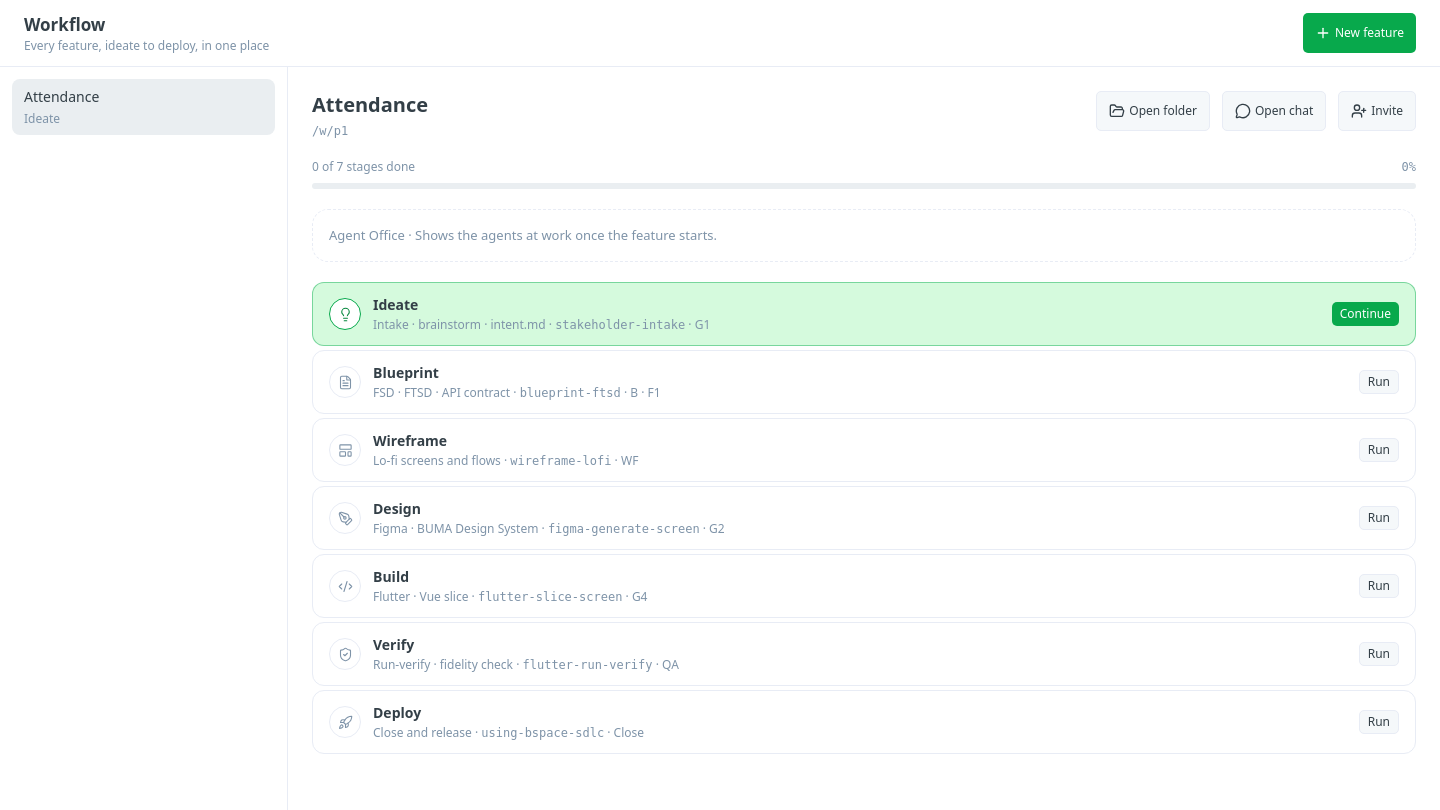
Scenario: Invite to a feature › the first invite picks the Azure DevOps project, then sends the email with the role
The image size is (1440, 810).
Click the button "Invite" at (1377, 110), box [1338,90,1416,130]
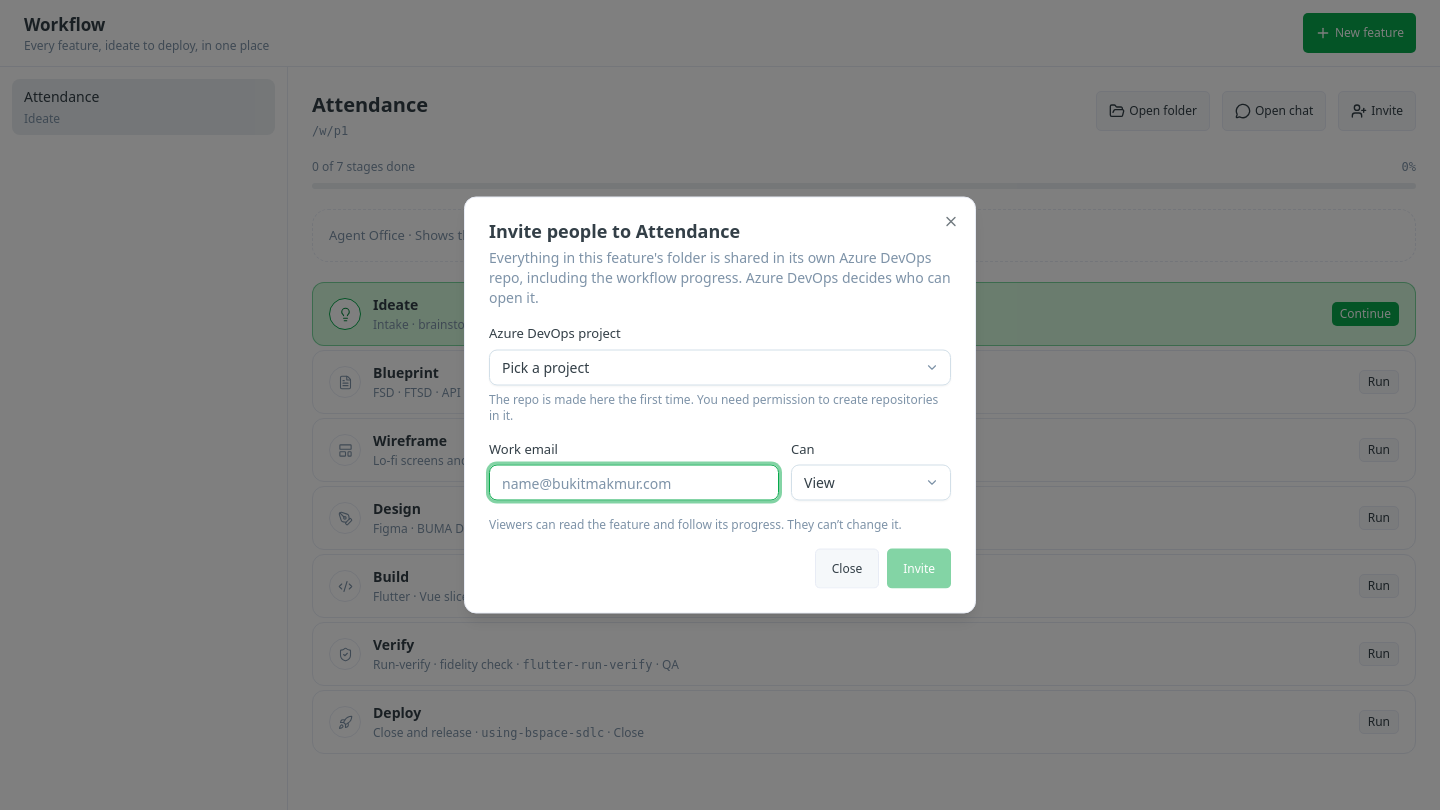
Type "Dewi@bukitmakmur.com" into the field at (634, 482), box [489,464,779,500]
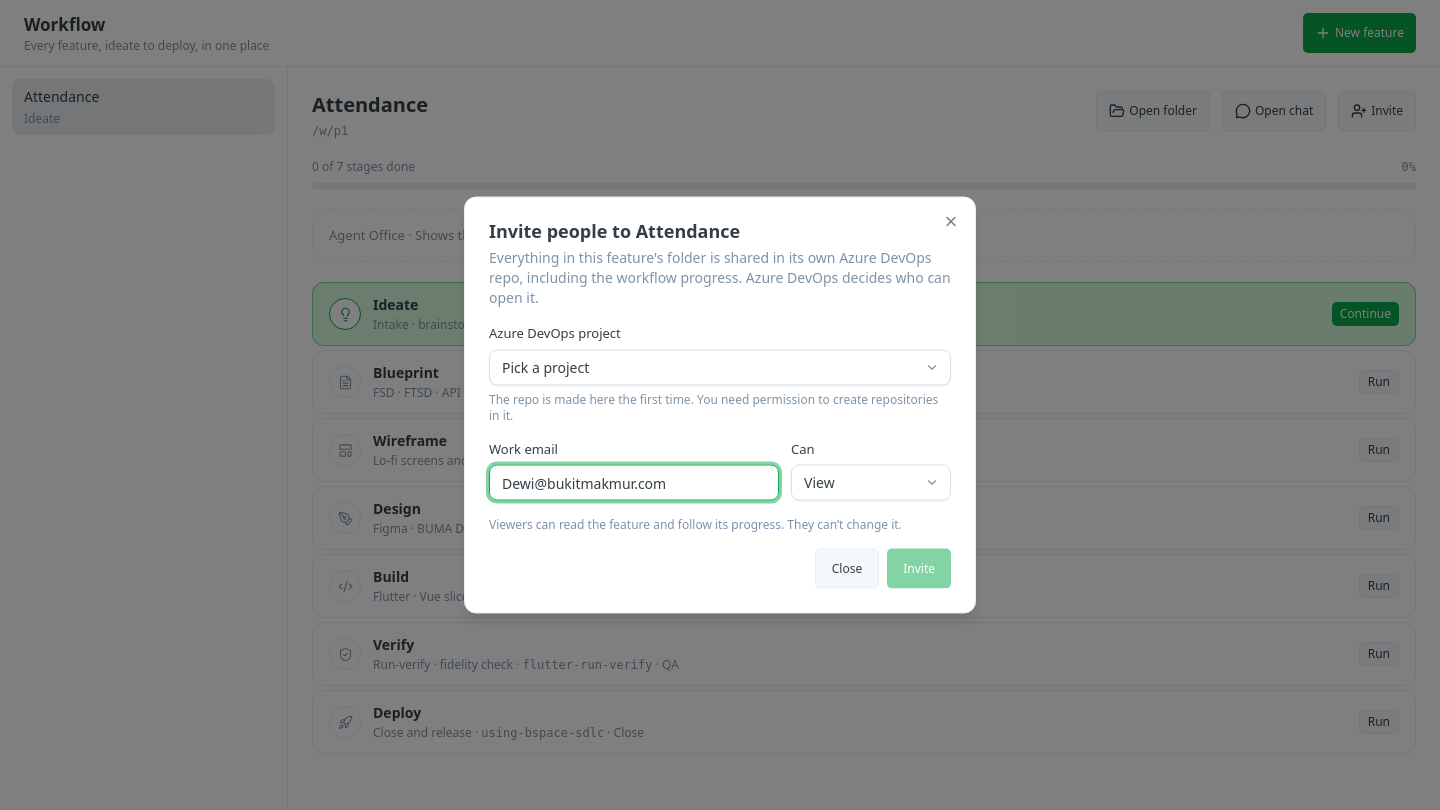
Now the button "Invite" is disabled, box [887,548,951,588]
Select "BUMA Bspace" in the dropdown labelled "Azure DevOps project" at (720, 367), box [489,349,951,385]
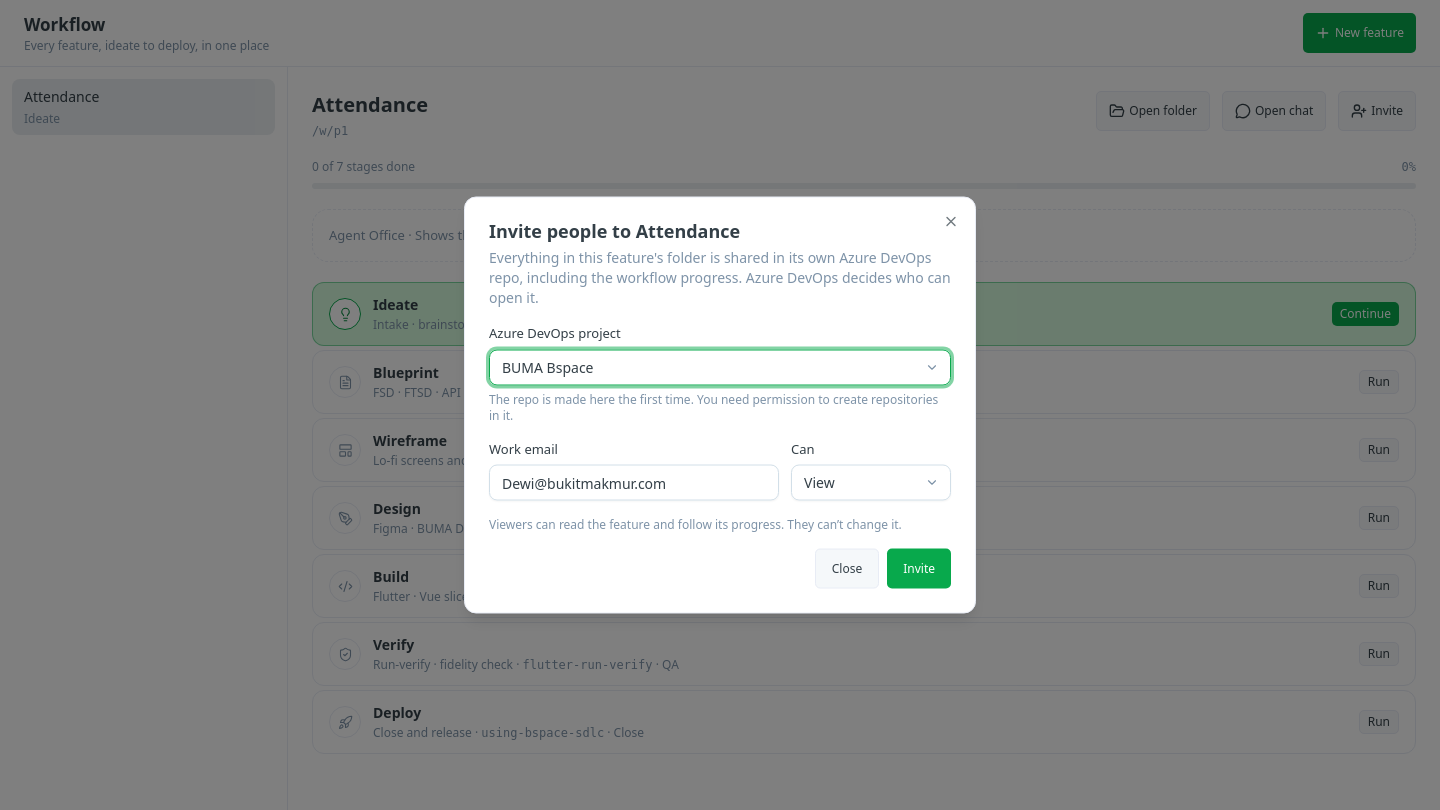
Select "Contribute" in the dropdown labelled "Can" at (871, 482), box [791,464,951,500]
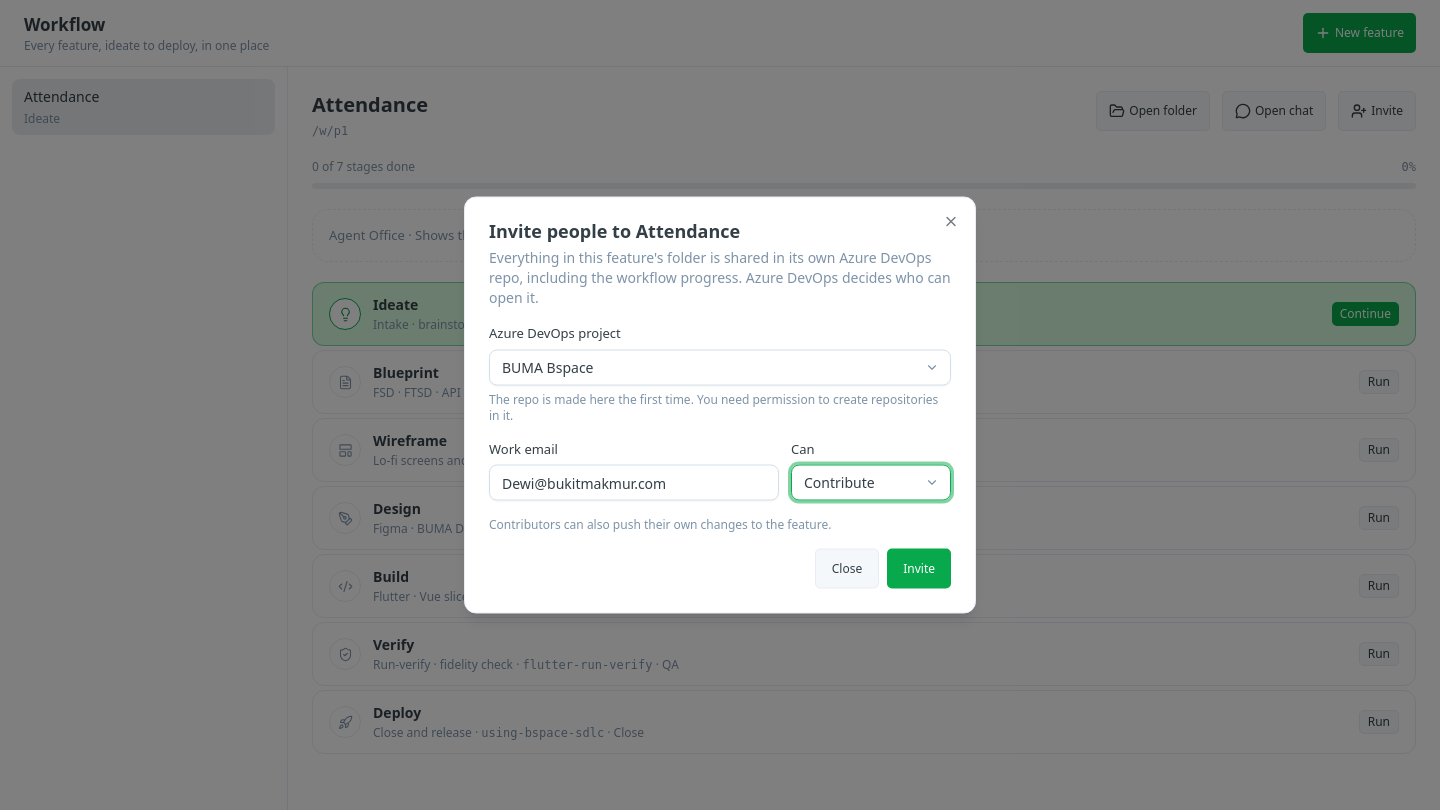
Click the button "Invite" at (919, 568), box [887,548,951,588]
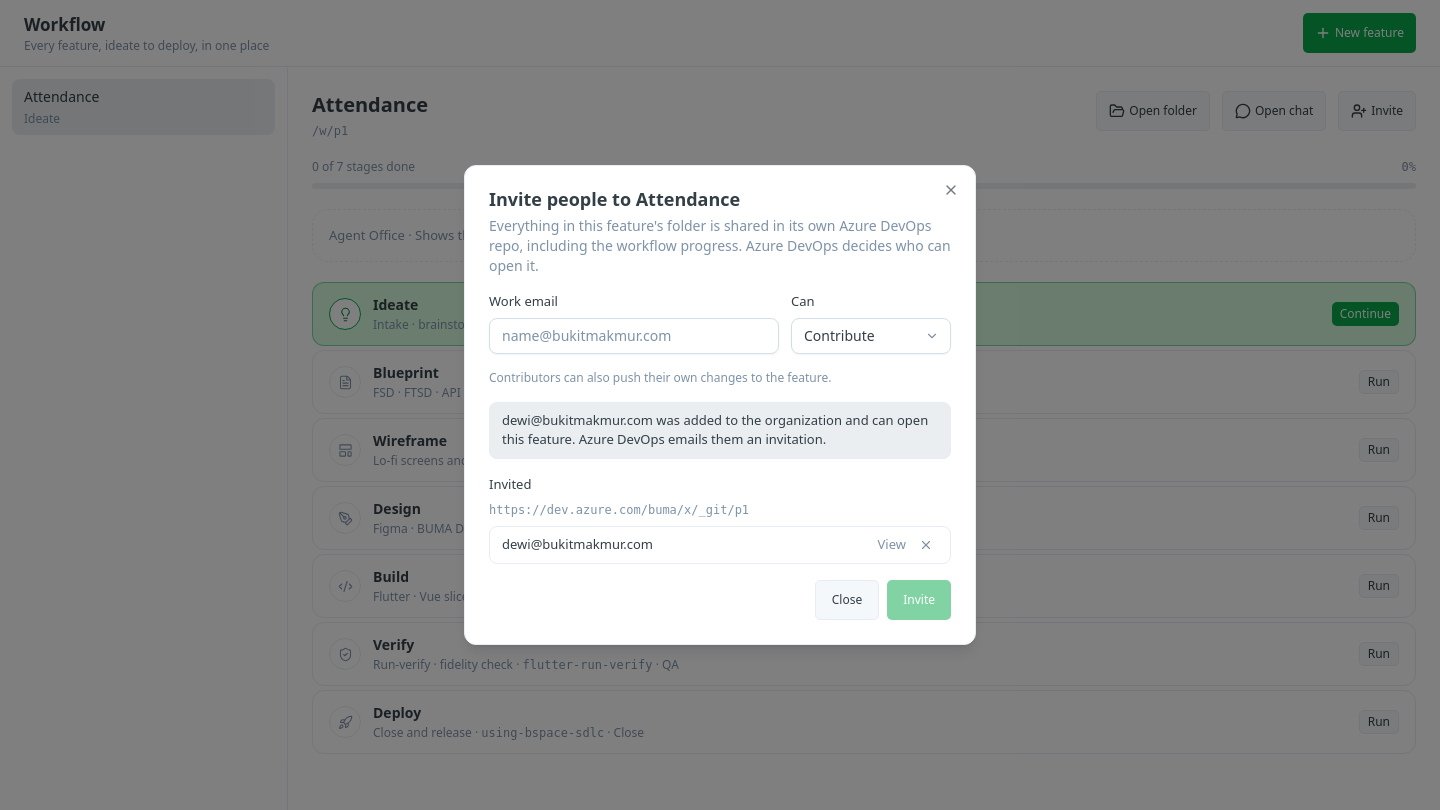
Now the message shows "dewi@bukitmakmur.com was added to the organization", box [502,410,928,448]
Now the list named "Invited" shows "dewi@bukitmakmur.com", box [502,535,653,553]
